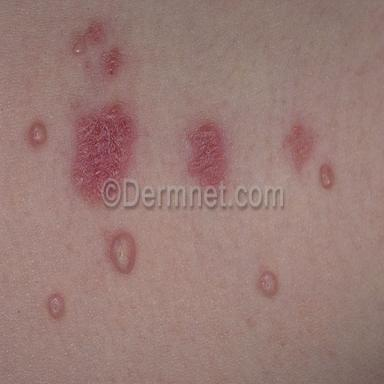Molluscum-Contagiosum: (111, 231, 136, 275), (259, 271, 278, 298), (48, 293, 65, 320), (28, 122, 46, 147), (320, 164, 334, 190), (72, 37, 86, 55)
